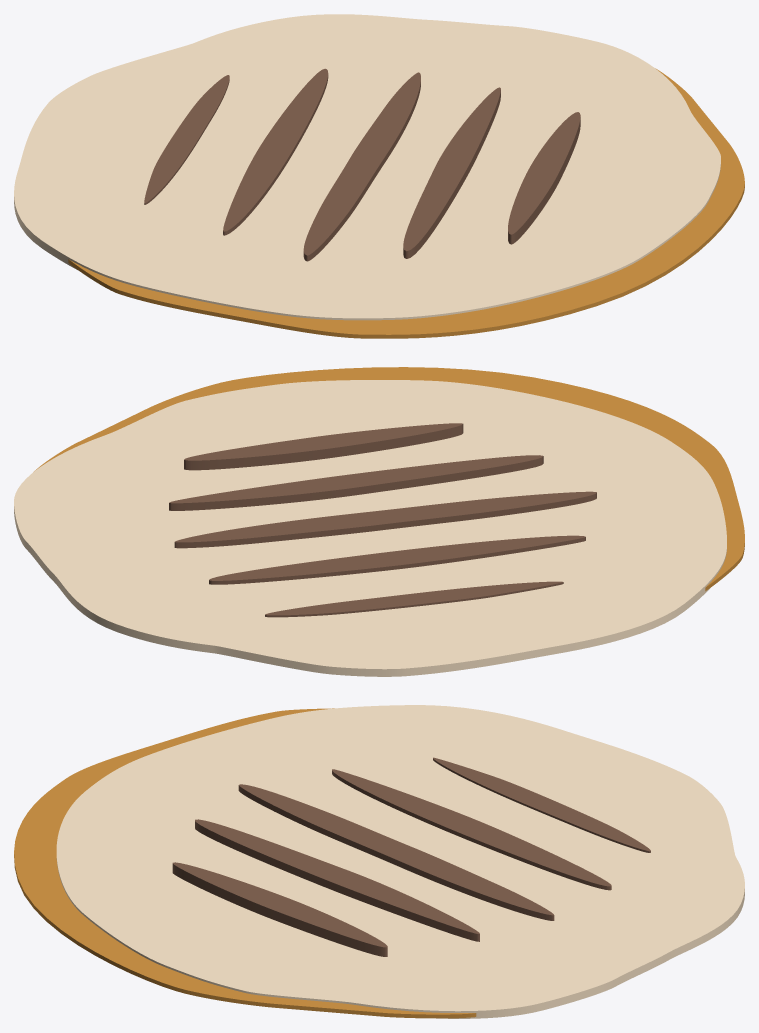
Rendered from emoji_u1fad3.glb.
3 views of the same model, one above another, from view 1: azimuth 30°, elevation 25°; view 2: azimuth 150°, elevation 25°; view 3: azimuth 270°, elevation 25° (orthographic). The views are drawn at different scales.
Parts seen in each view (by area): view 1: emoji_u1fad3; view 2: emoji_u1fad3; view 3: emoji_u1fad3.
Part boxes in pixels (x1,y1,x2,y2): emoji_u1fad3: [14, 14, 744, 338]; emoji_u1fad3: [14, 367, 744, 676]; emoji_u1fad3: [14, 705, 744, 1018].
Bounding box in the file's own units: 0.034 × 0.0014 × 0.0341.
